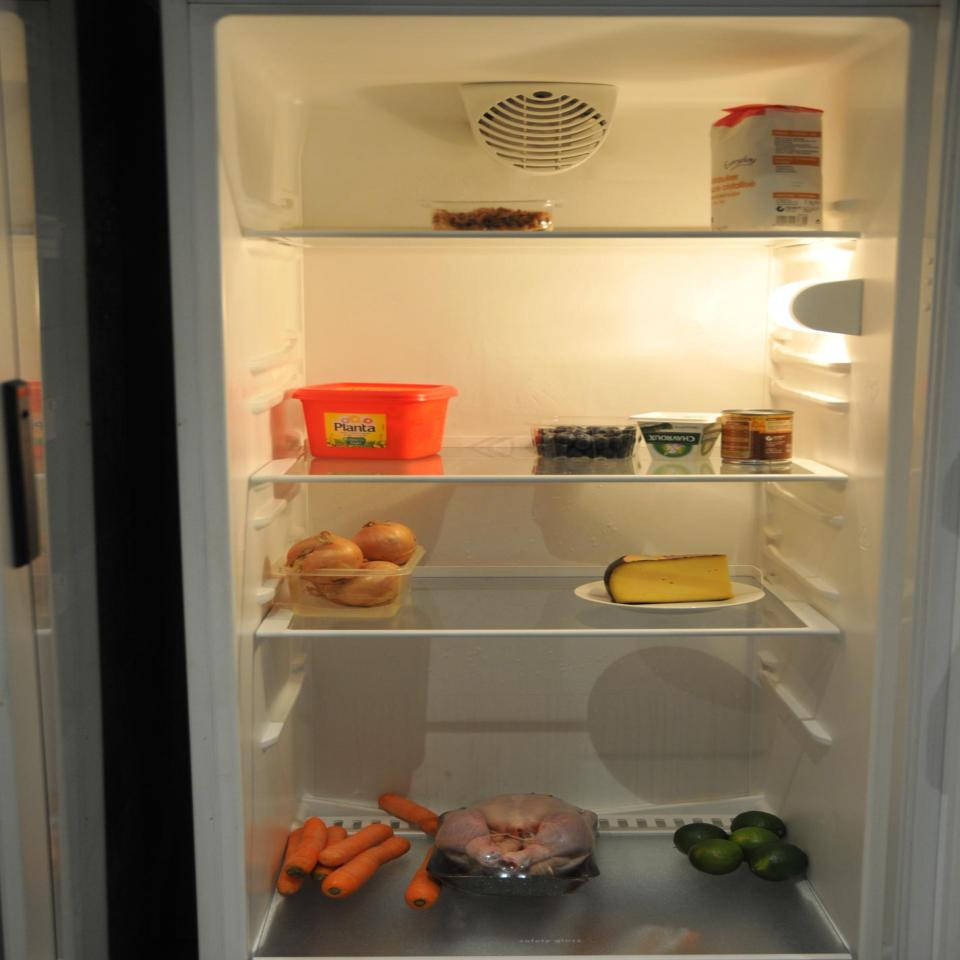Carne pollo: (426, 793, 609, 900)
Mantequilla: (291, 378, 457, 464)
Queso: (605, 552, 743, 607)
Zanahoria: (270, 788, 460, 914)
